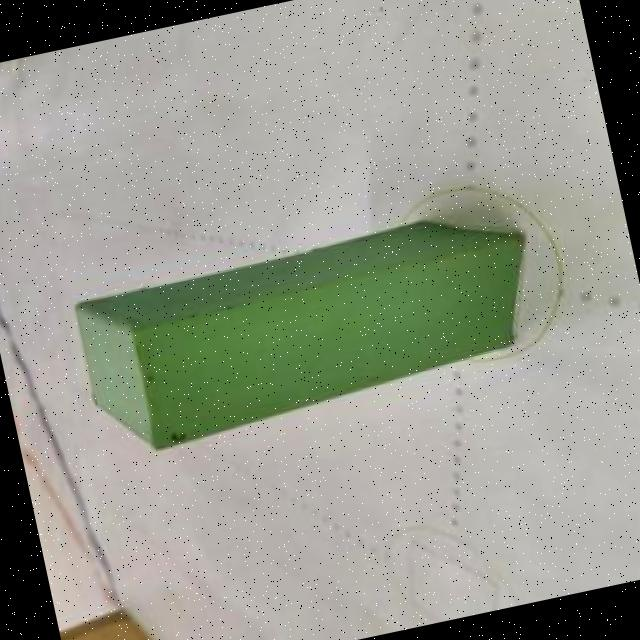greenbox: (63, 191, 554, 464)
